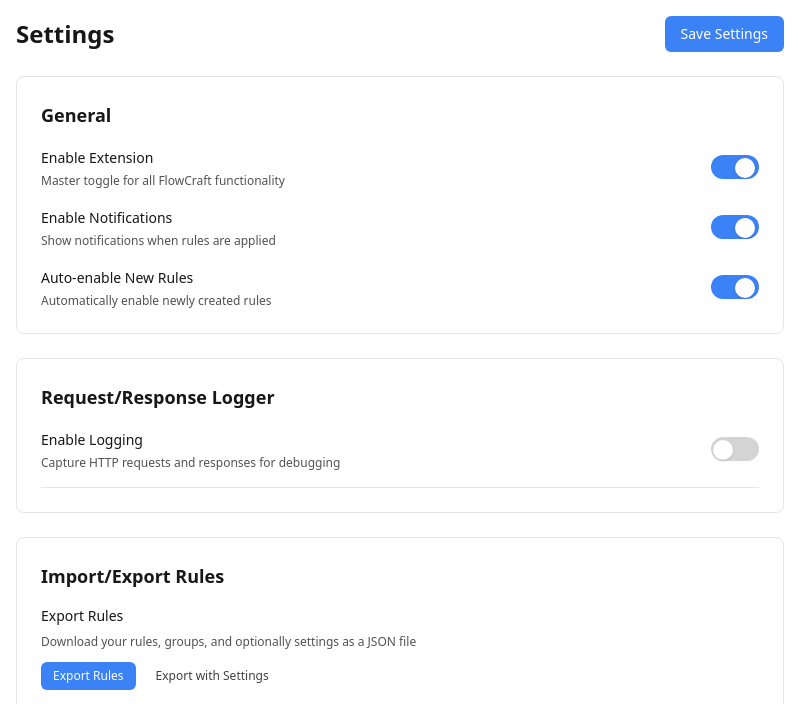
SettingsView › Save Button › should show success status after saving
The image size is (801, 704).
Check: the heading "Settings" is shown, box [16,18,114,50]
Click the button with test id "save-settings-btn": (724, 34) [664,16,784,52]
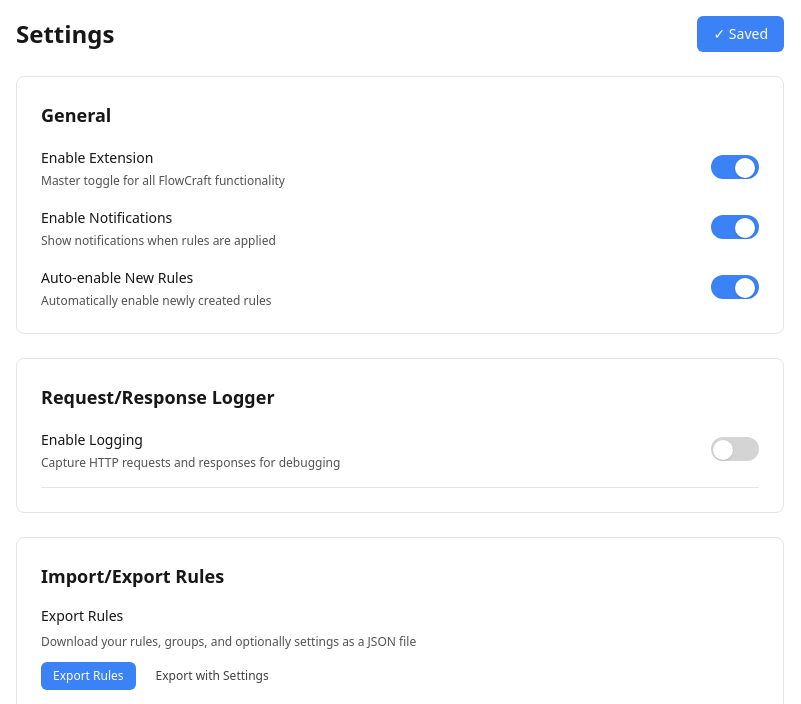
Check: the button "✓ Saved" is shown, box [698,16,784,52]
